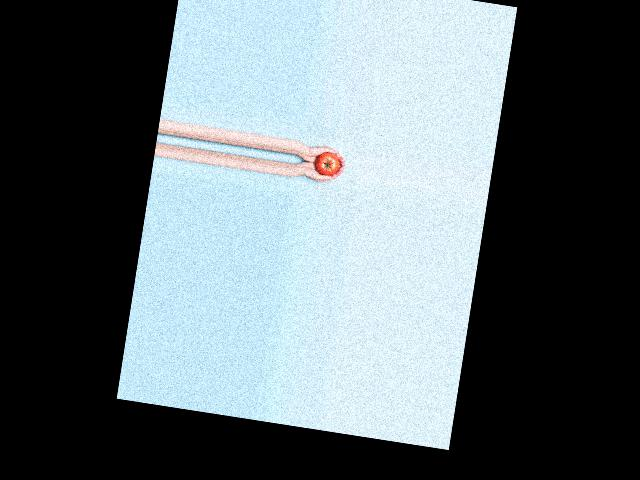tomato: (314, 151, 340, 177)
